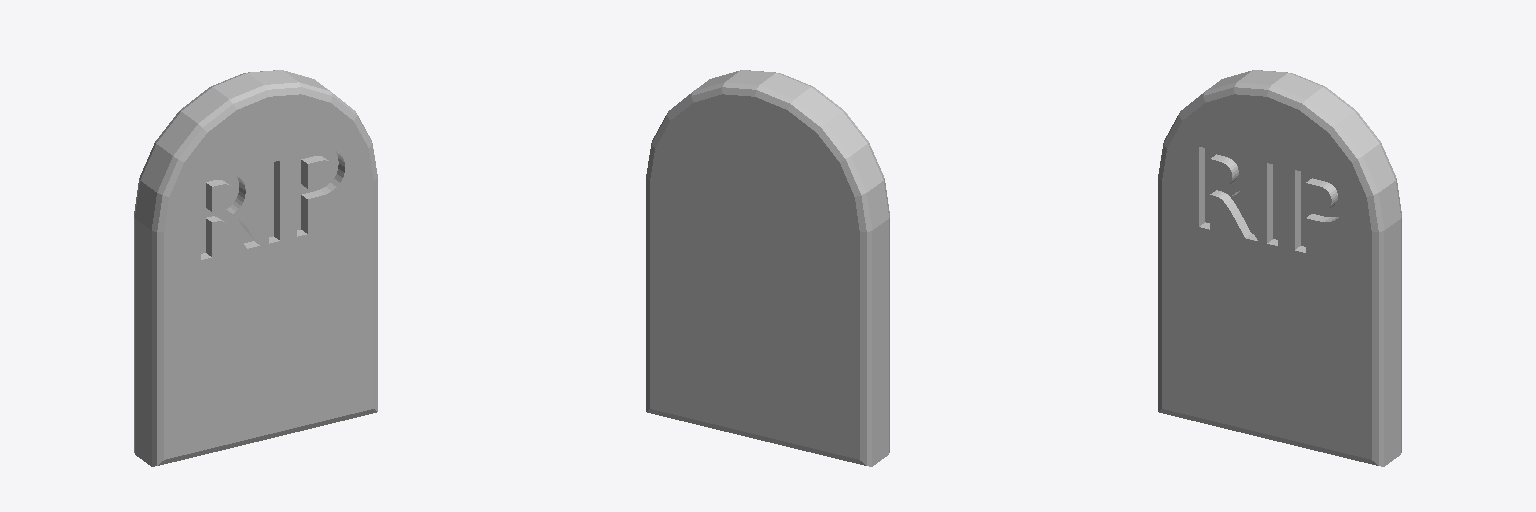
File: gravestone.obj
3 views of the same model, side by side, from view 1: azimuth 30°, elevation 25°; view 2: azimuth 150°, elevation 25°; view 3: azimuth 330°, elevation 25° (orthographic).
Parts seen in each view (by area): view 1: Gravestone; view 2: Gravestone; view 3: Gravestone.
Part boxes in pixels (x1,y1,x2,y2): Gravestone: (134, 70, 377, 466); Gravestone: (646, 70, 889, 466); Gravestone: (1158, 70, 1401, 466).
Bounding box in the file's own units: 2 × 3 × 0.4.